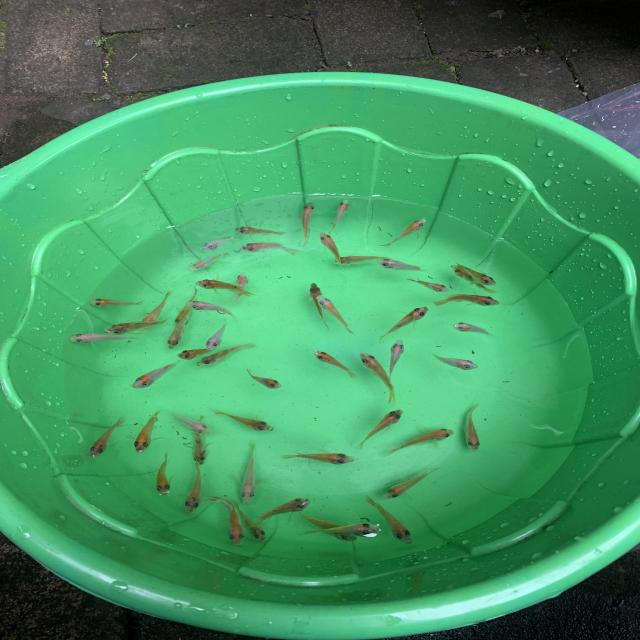nila: (361, 494, 417, 546), (351, 406, 409, 455), (382, 424, 461, 459), (356, 348, 400, 406), (247, 492, 312, 531), (381, 464, 444, 504), (374, 215, 436, 252), (296, 511, 363, 545), (206, 493, 244, 551), (86, 415, 130, 463), (98, 313, 178, 339), (128, 358, 187, 392), (376, 305, 431, 341), (194, 341, 258, 371), (229, 500, 272, 543), (298, 521, 384, 542), (186, 298, 250, 326), (445, 262, 499, 294), (160, 304, 196, 352), (316, 293, 356, 336), (460, 398, 489, 456), (137, 290, 175, 334), (236, 440, 262, 504), (270, 450, 365, 467), (181, 458, 207, 517), (304, 280, 334, 331), (311, 348, 358, 380), (194, 277, 260, 299), (213, 410, 279, 432), (162, 407, 212, 435), (170, 284, 202, 327), (316, 229, 347, 272), (152, 449, 177, 502), (134, 408, 161, 457), (381, 338, 407, 388), (238, 238, 303, 258), (435, 291, 503, 310), (196, 229, 246, 253), (428, 350, 483, 371), (455, 262, 499, 288), (370, 256, 433, 274), (299, 200, 322, 249), (201, 311, 227, 353), (73, 332, 139, 348), (449, 320, 501, 340), (186, 249, 232, 271), (403, 274, 453, 294), (226, 268, 253, 305), (190, 422, 212, 467), (243, 366, 286, 389), (326, 252, 396, 266), (230, 222, 291, 238), (326, 197, 350, 234), (172, 344, 220, 360), (86, 298, 152, 309)
